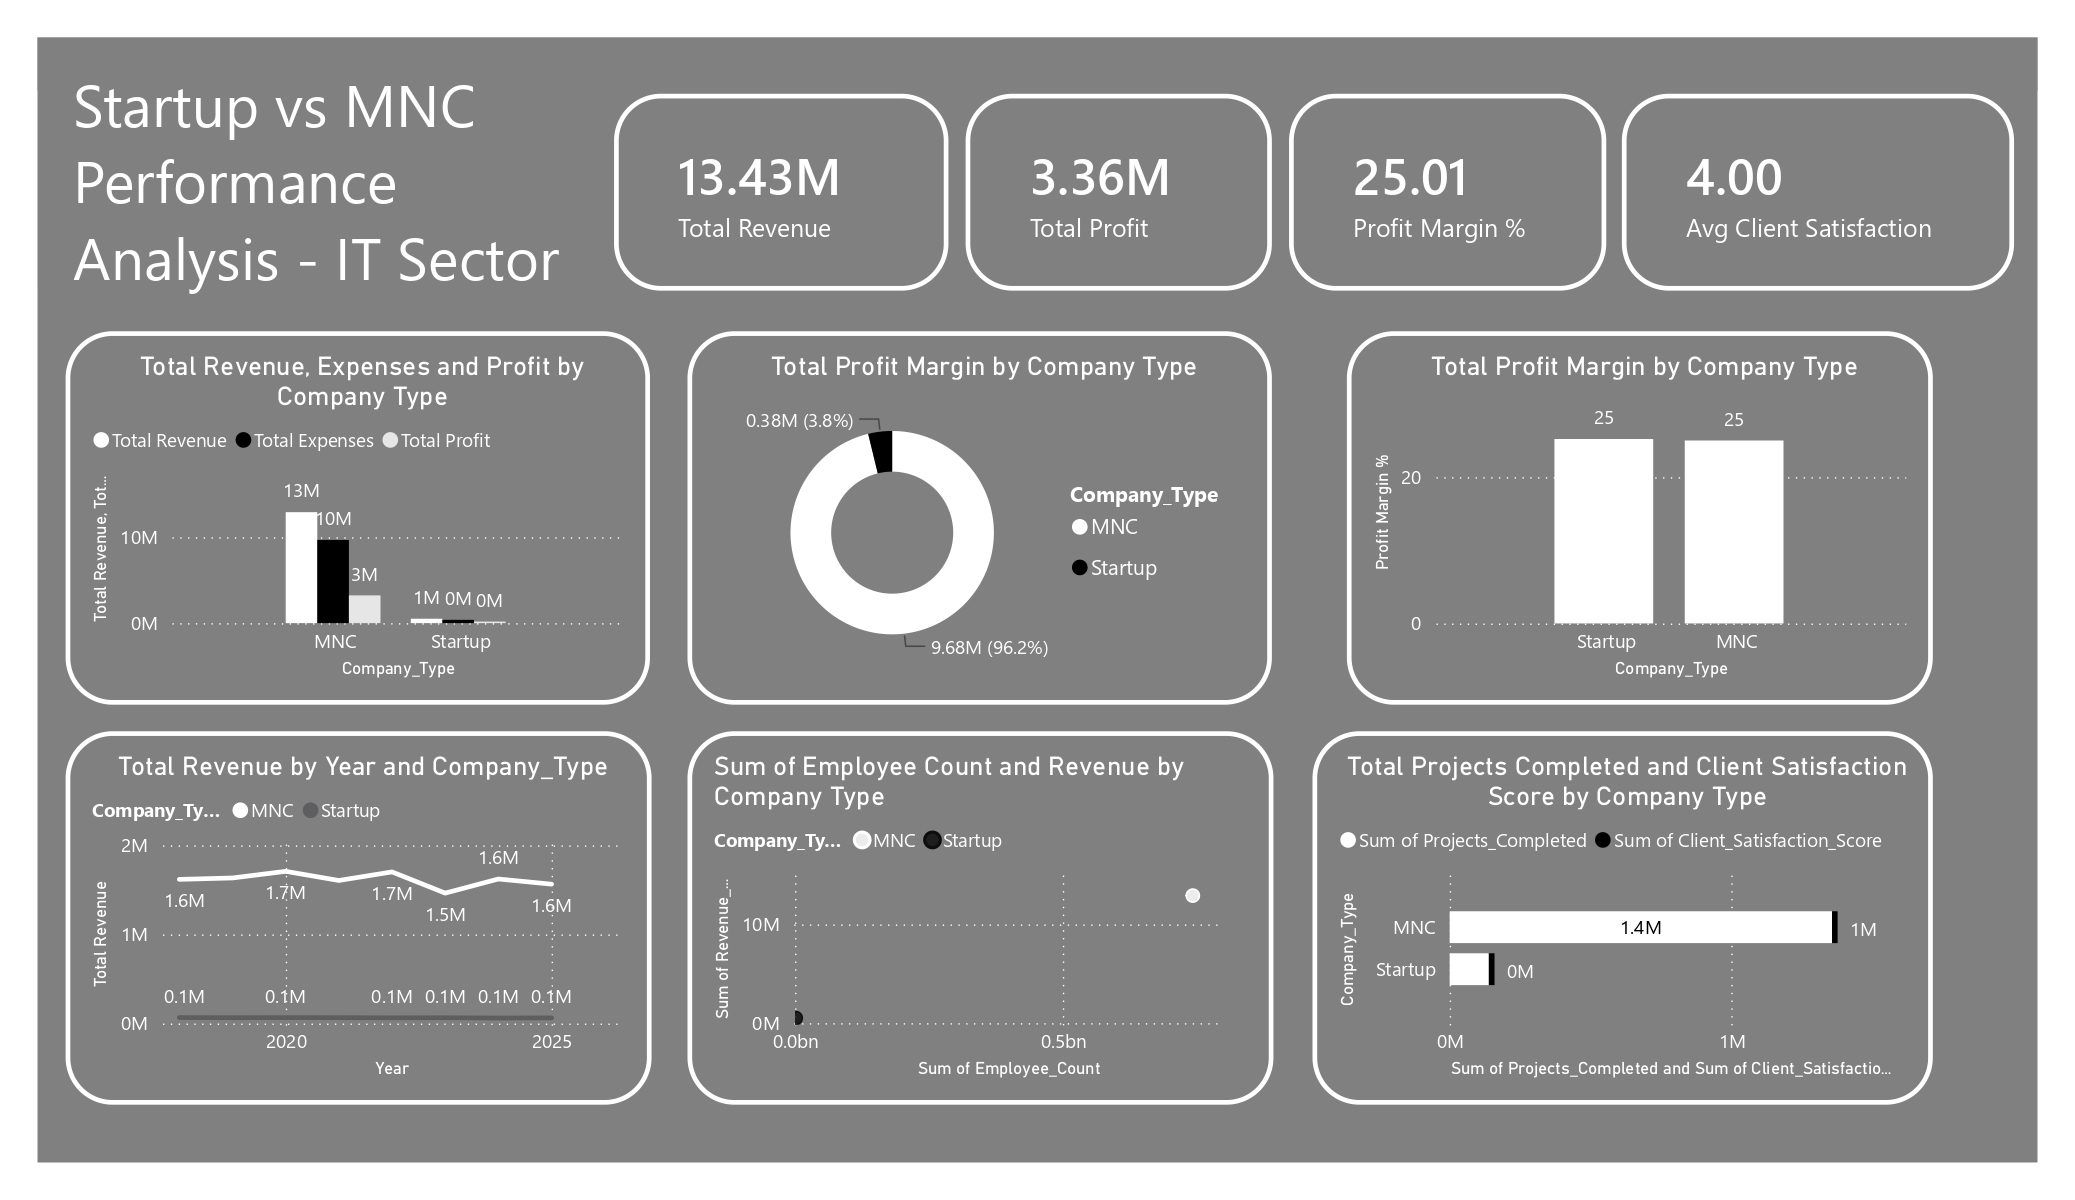

What the dashboard file says about the page in this screenshot:
{"tool":"powerbi","page":{"name":"Page 1","canvas":[1280,720],"ordinal":0},"visuals":[{"type":"cardVisual","fields":{"Data":["IT_Company_Performance.Total Profit"]},"box":[594.2,35.7,196.2,126.2],"z":0},{"type":"cardVisual","fields":{"Data":["IT_Company_Performance.Avg Client Satisfaction"]},"box":[1014.1,35.7,251.1,126.2],"z":1},{"type":"cardVisual","fields":{"Data":["IT_Company_Performance.Total Revenue"]},"box":[369.1,35.7,214.1,126.2],"z":2},{"type":"cardVisual","fields":{"Data":["IT_Company_Performance.Profit Margin %"]},"box":[801.4,35.7,203.1,126.2],"z":3},{"type":"clusteredColumnChart","title":"Total Revenue, Expenses and Profit by Company Type","fields":{"Category":["IT_Company_Performance.Company_Type"],"Y":["IT_Company_Performance.Total Revenue","IT_Company_Performance.Total Expenses","IT_Company_Performance.Total Profit"]},"box":[17.8,188,374.6,238.8],"z":4},{"type":"lineChart","fields":{"Category":["IT_Company_Performance.Year"],"Y":["IT_Company_Performance.Total Revenue"],"Series":["IT_Company_Performance.Company_Type"]},"box":[18,444,375,239],"z":7},{"type":"scatterChart","title":"Sum of Employee Count and Revenue by Company Type","fields":{"X":["Sum(IT_Company_Performance.Employee_Count)"],"Y":["Sum(IT_Company_Performance.Revenue_Million_USD)"],"Series":["IT_Company_Performance.Company_Type"]},"box":[416,444,375,239],"z":8},{"type":"barChart","title":"Total Projects Completed and Client Satisfaction Score by Company Type","fields":{"Category":["IT_Company_Performance.Company_Type"],"Y":["Sum(IT_Company_Performance.Projects_Completed)","Sum(IT_Company_Performance.Client_Satisfaction_Score)"]},"box":[816,444,397,239],"z":9},{"type":"clusteredColumnChart","title":"Total Profit Margin by Company Type","fields":{"Category":["IT_Company_Performance.Company_Type"],"Y":["IT_Company_Performance.Profit Margin %"]},"box":[838.4,188,374.6,238.8],"z":10},{"type":"donutChart","title":"Total Profit Margin by Company Type","fields":{"Category":["IT_Company_Performance.Company_Type"],"Y":["Sum(IT_Company_Performance.Expenses_Million_USD)"]},"box":[415.8,188,374.6,238.8],"z":11},{"type":"textbox","box":[17.8,12.3,351.3,163.3],"z":12}]}

Visuals, with their boxes in screenshot pixels (x1, y1, x2, y2):
cardVisual - IT_Company_Performance.Total Profit: <box>959,93,1262,287</box>
cardVisual - IT_Company_Performance.Avg Client Satisfaction: <box>1607,93,1994,287</box>
cardVisual - IT_Company_Performance.Total Revenue: <box>612,93,943,287</box>
cardVisual - IT_Company_Performance.Profit Margin %: <box>1279,93,1592,287</box>
"Total Revenue, Expenses and Profit by Company Type" clusteredColumnChart: <box>71,328,648,696</box>
lineChart - IT_Company_Performance.Year x IT_Company_Performance.Total Revenue: <box>71,722,649,1091</box>
"Sum of Employee Count and Revenue by Company Type" scatterChart: <box>685,722,1263,1091</box>
"Total Projects Completed and Client Satisfaction Score by Company Type" barChart: <box>1302,722,1914,1091</box>
"Total Profit Margin by Company Type" clusteredColumnChart: <box>1336,328,1914,696</box>
"Total Profit Margin by Company Type" donutChart: <box>684,328,1262,696</box>
textbox: <box>71,57,612,309</box>
